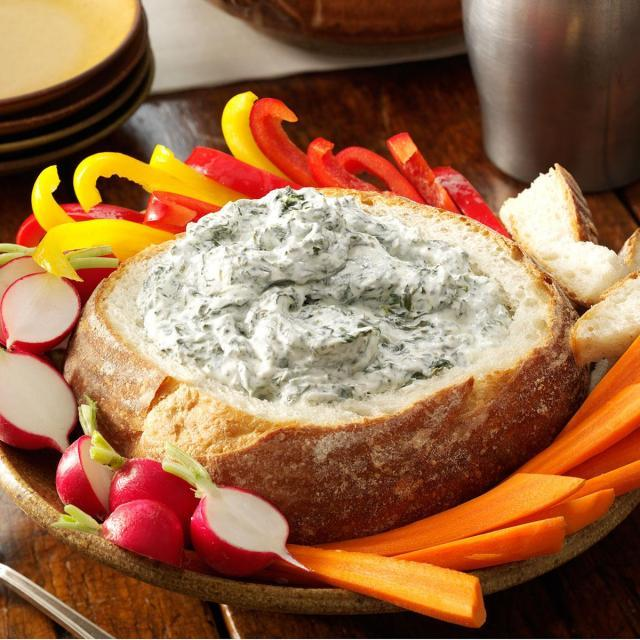Spread: (141, 189, 513, 393)
